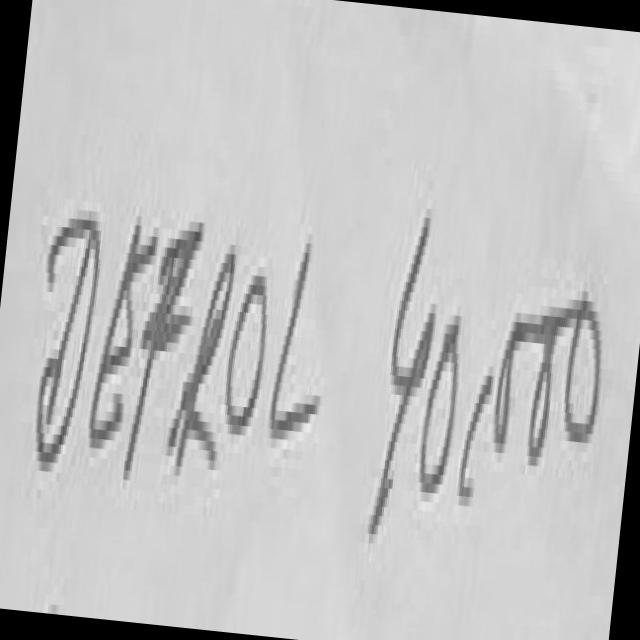0: (421, 316, 460, 488), (566, 300, 602, 438), (495, 322, 527, 448), (530, 329, 556, 461)
4: (370, 218, 433, 530)
D: (37, 202, 103, 466)
E: (90, 228, 155, 456)
F: (124, 222, 203, 475)
L: (263, 243, 320, 440)
O: (228, 276, 264, 430)
R: (172, 253, 235, 478)
